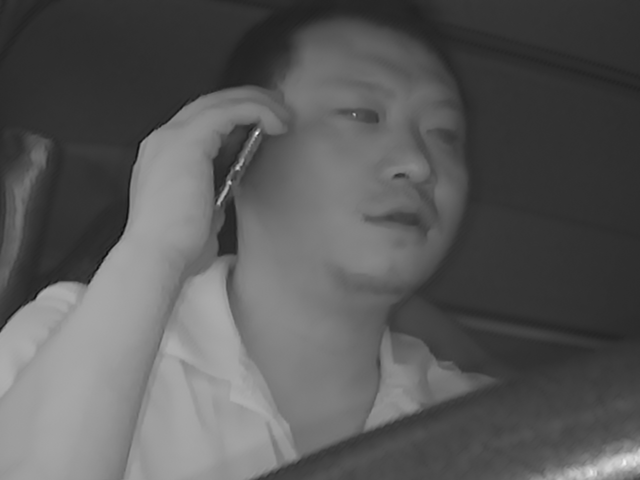hand: (129, 83, 251, 265)
